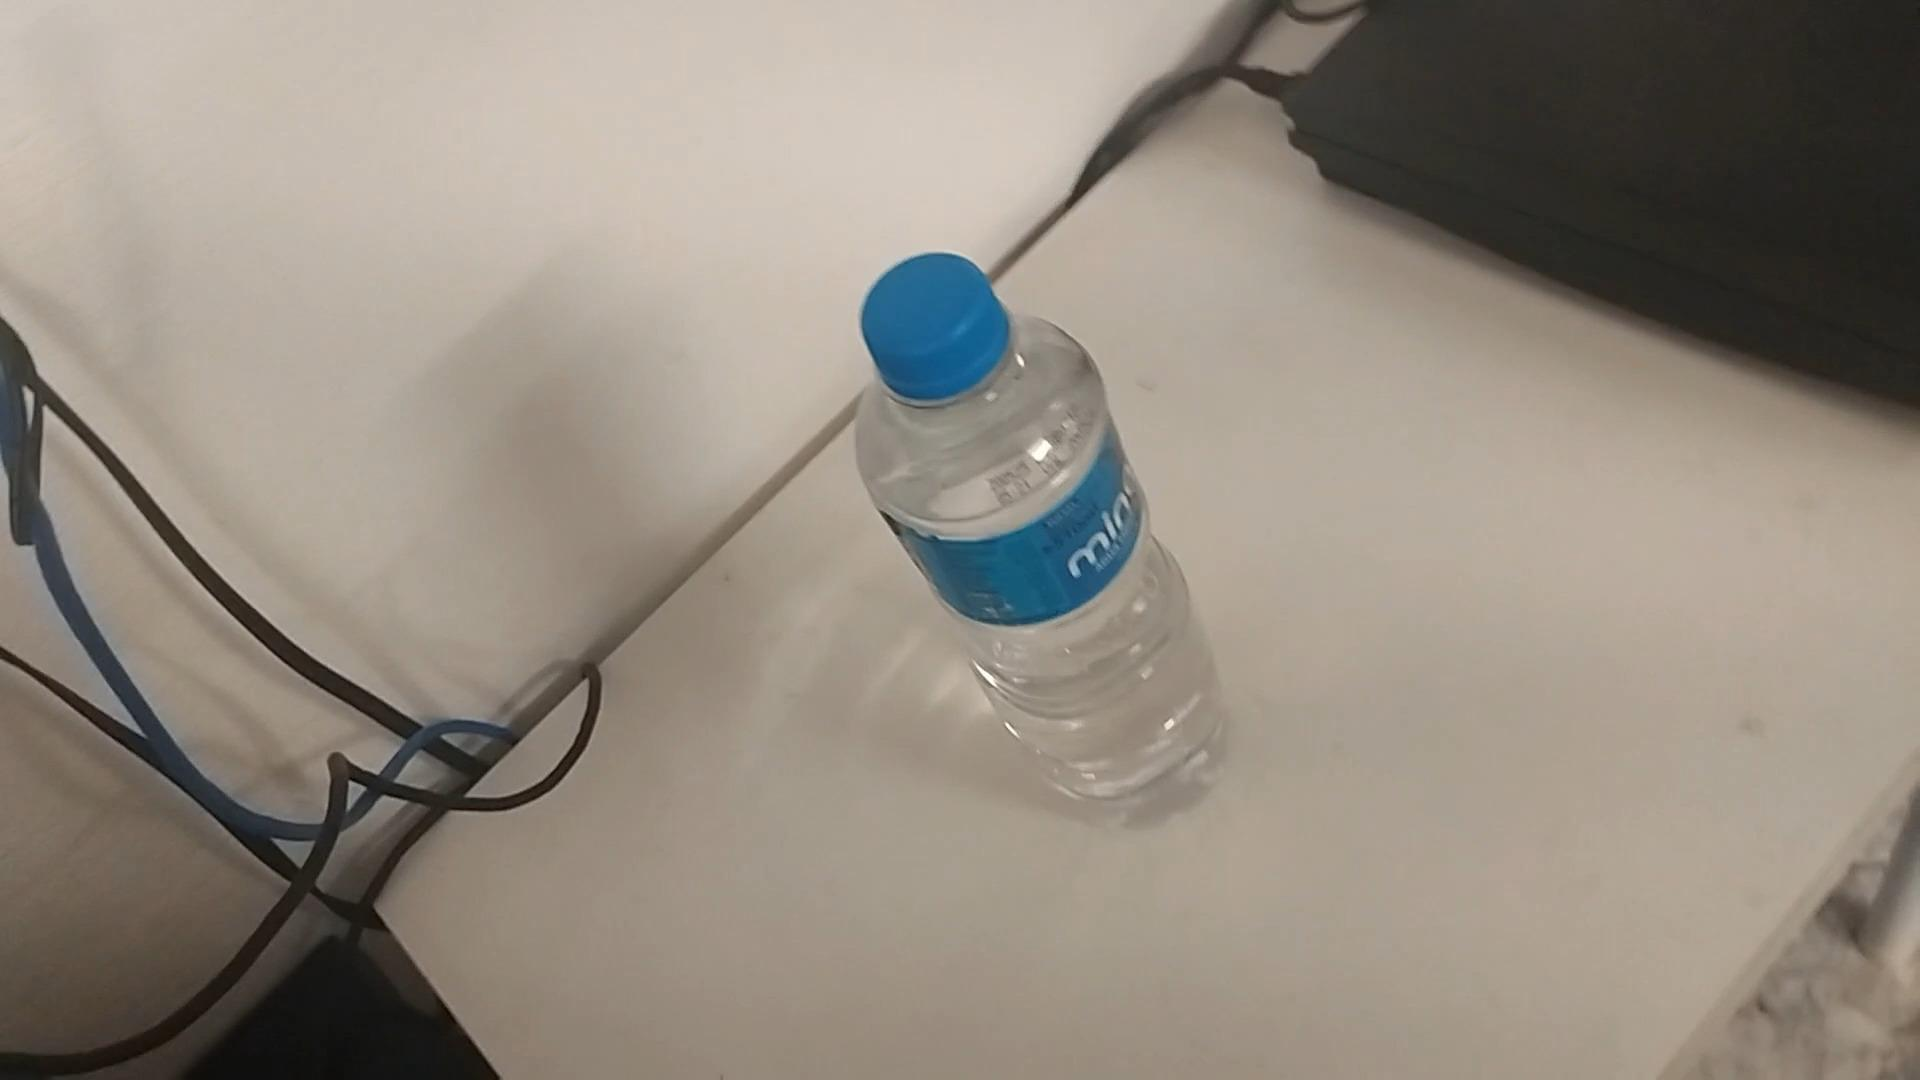agua: (852, 251, 1211, 810)
